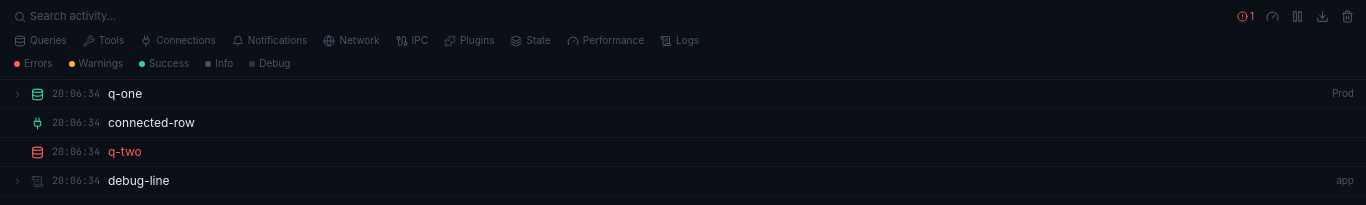
Test: ActivityList › filters by level when a level chip is clicked
Click the button titled "Errors": (33, 64) [8, 54, 59, 73]
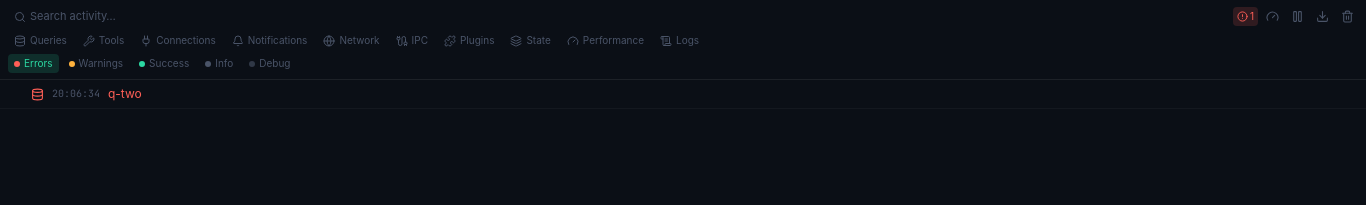
Expected: the text "q-two" is shown, [108, 86, 142, 101]
Now the text "q-one" is gone
Now the text "debug-line" is gone
